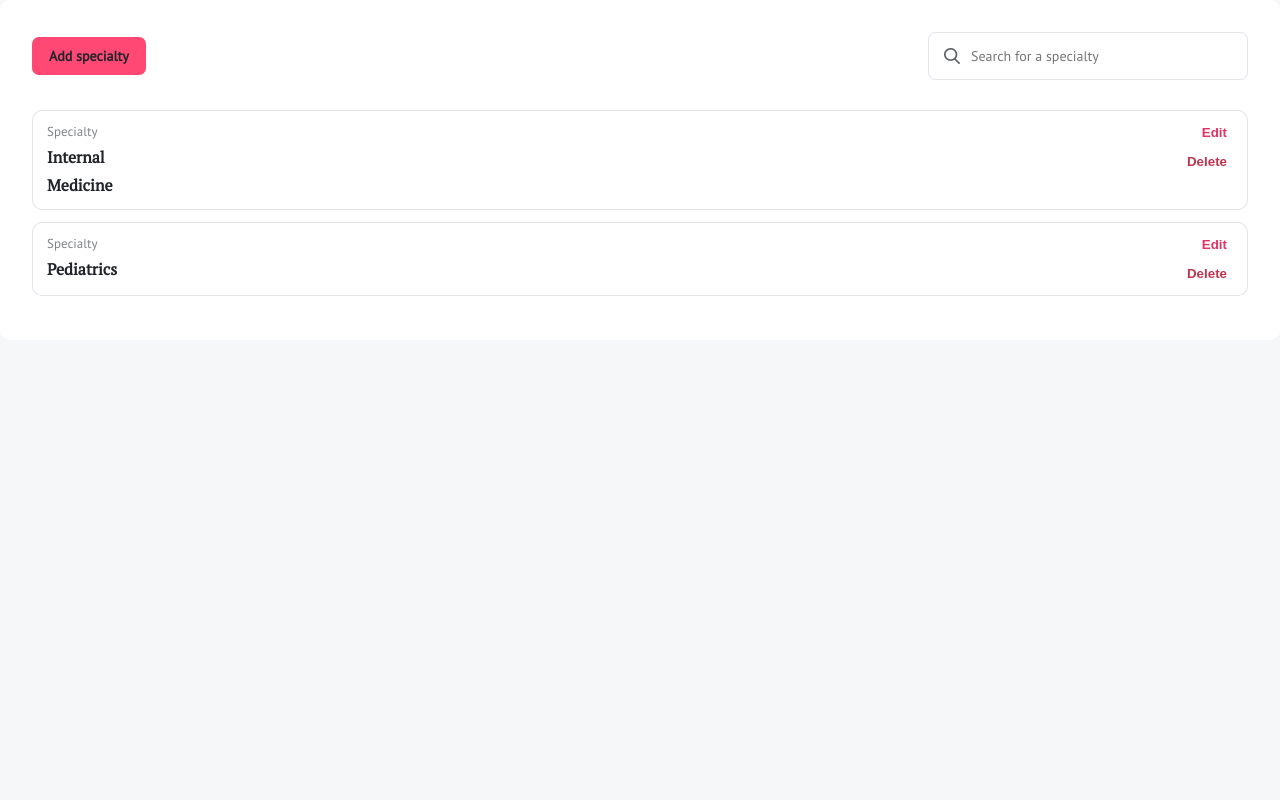
Test: SpecialtiesPage › surfaces a server conflict in the form
The image size is (1280, 800).
Check: the text "Internal Medicine" is shown, box [47,146,112,196]
Click the button "Add specialty". click: (89, 56)
box: [32,37,146,75]
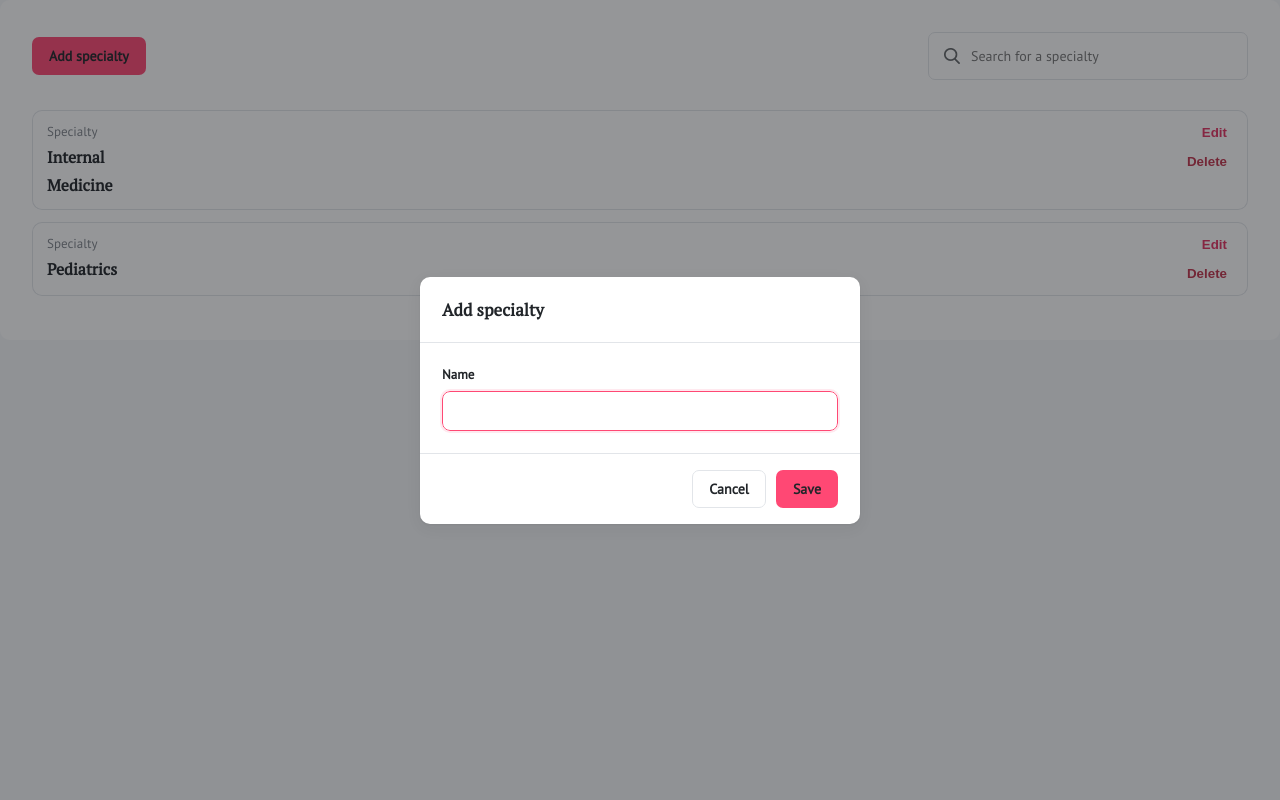
Type "Pediatrics" into the field labelled "Name". click: (640, 410)
box: [442,390,838,430]
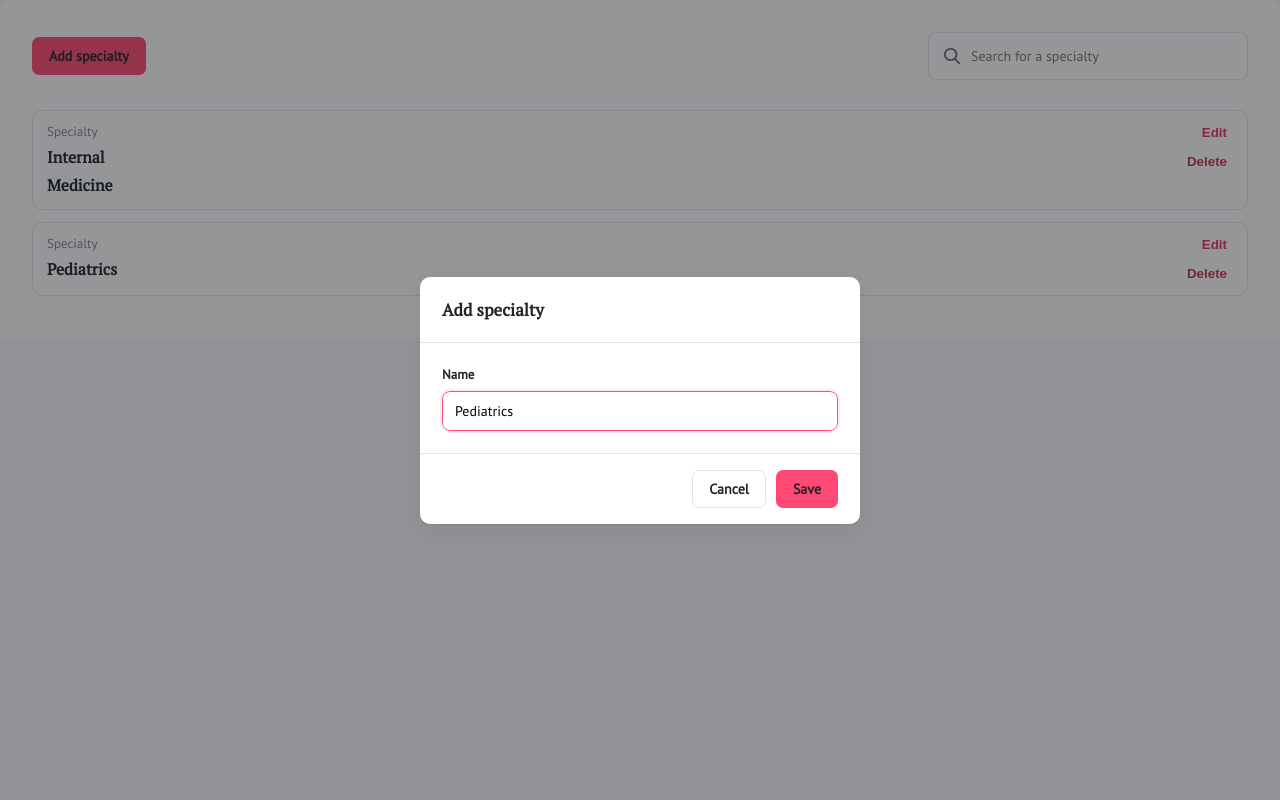
Click the button "Save". click: (807, 488)
box: [776,470,838,508]
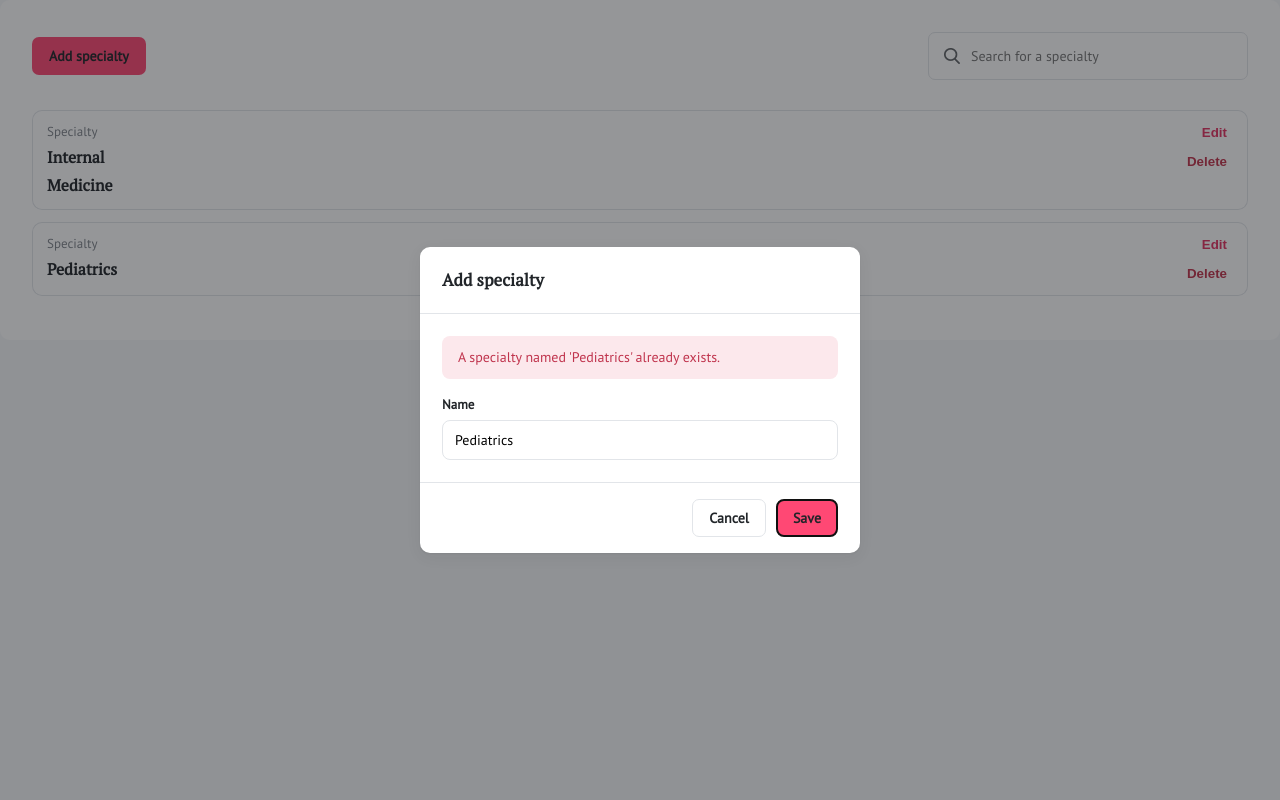
Check: the text "A specialty named 'Pediatrics' already exists." is shown, box [442,336,838,378]
